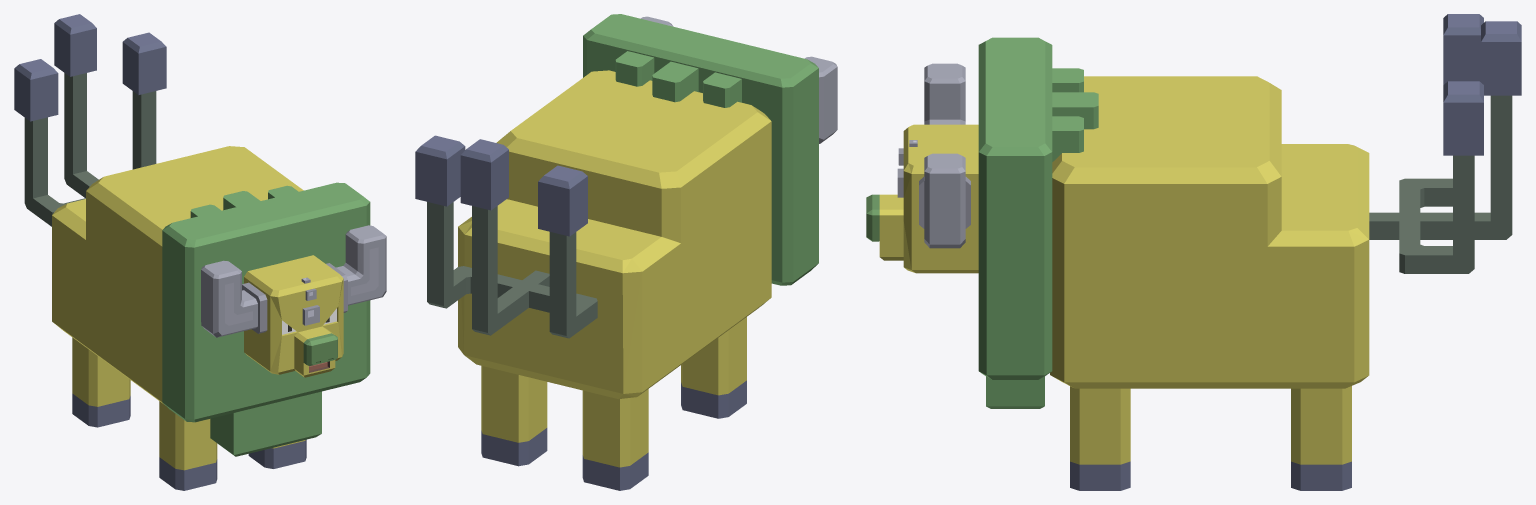
File: model_shiny.obj
3 views of the same model, side by side, from view 1: azimuth 30°, elevation 25°; view 2: azimuth 150°, elevation 25°; view 3: azimuth 270°, elevation 25° (orthographic). The views are drawn at different scales.
Parts seen in each view (by area): view 1: 0128_tauros_shiny; view 2: 0128_tauros_shiny; view 3: 0128_tauros_shiny.
Boxes of the visible parts, x1,y1,x2,y2 form: 0128_tauros_shiny: (14,14,386,490); 0128_tauros_shiny: (415,14,837,490); 0128_tauros_shiny: (866,14,1521,490).
Bounding box in the file's own units: 1.92 × 3.28 × 4.61.
Materials: 1 (1 with a texture image).
